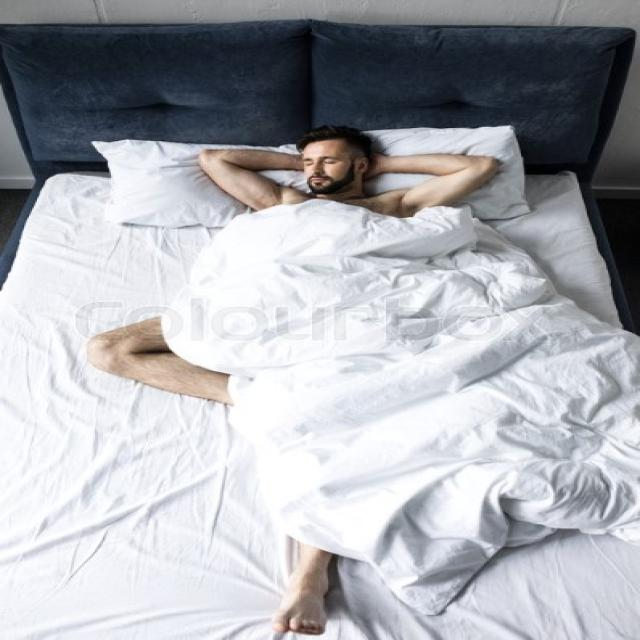sleeping-person: (79, 111, 525, 640)
